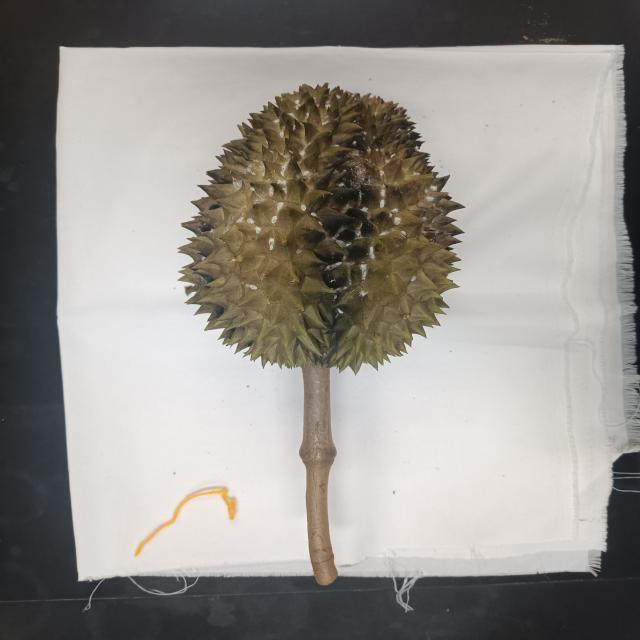defective: (174, 84, 465, 364)
